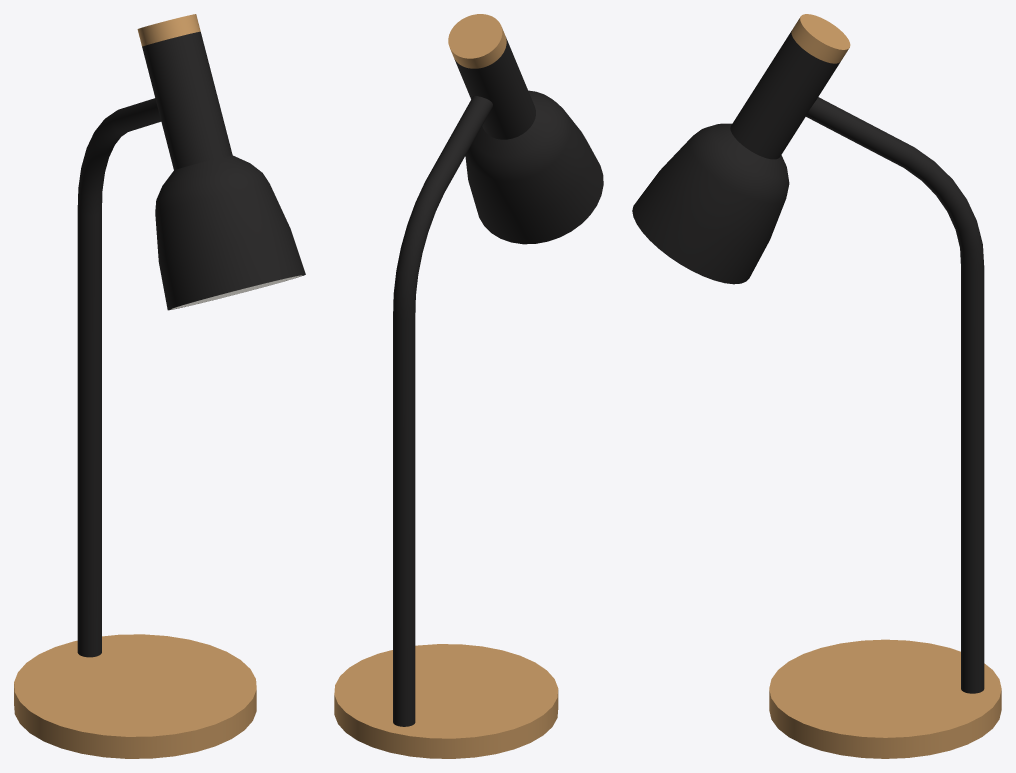
File: desk_lamp.fbx
3 views of the same model, side by side, from view 1: azimuth 30°, elevation 25°; view 2: azimuth 150°, elevation 25°; view 3: azimuth 270°, elevation 25° (orthographic). The views are drawn at different scales.
Parts seen in each view (by area): view 1: Cylinder, Circle, Circle.001; view 2: Cylinder, Circle, Circle.001; view 3: Cylinder, Circle, Circle.001.
Boxes of the visible parts, x1=… form: Cylinder: x1=137, y1=14, x2=305, y2=310; Circle: x1=14, y1=634, x2=256, y2=758; Circle.001: x1=77, y1=98, x2=161, y2=657; Cylinder: x1=448, y1=14, x2=603, y2=244; Circle: x1=334, y1=644, x2=558, y2=758; Circle.001: x1=393, y1=95, x2=492, y2=726; Cylinder: x1=632, y1=14, x2=850, y2=284; Circle: x1=769, y1=639, x2=1001, y2=758; Circle.001: x1=806, y1=97, x2=984, y2=693.
Size of the model in its own units: 200 by 656 by 318.
